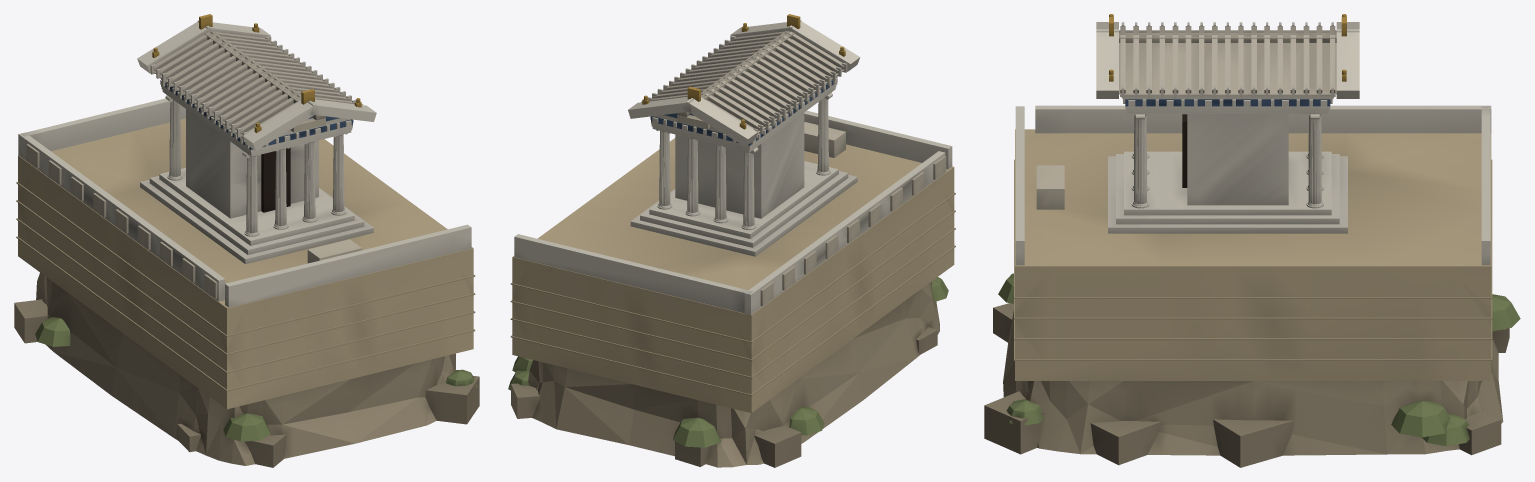
File: nike.glb
3 renders of one model, left to right at view 1: azimuth 30°, elevation 25°; view 2: azimuth 150°, elevation 25°; view 3: azimuth 270°, elevation 25°, orthographic. The views are drawn at different scales.
Parts seen in each view (by area): view 1: p0_bastion, p1_temple, p2_roof; view 2: p0_bastion, p1_temple, p2_roof; view 3: p0_bastion, p1_temple, p2_roof.
Boxes of the visible parts, left/top/right/bottom form: p0_bastion: left=14, top=118, right=479, bottom=467; p1_temple: left=18, top=95, right=471, bottom=307; p2_roof: left=137, top=14, right=376, bottom=263; p0_bastion: left=508, top=138, right=955, bottom=467; p1_temple: left=514, top=92, right=952, bottom=315; p2_roof: left=628, top=14, right=860, bottom=157; p0_bastion: left=984, top=129, right=1520, bottom=467; p1_temple: left=1015, top=105, right=1491, bottom=265; p2_roof: left=1036, top=14, right=1359, bottom=209.
Size of the model in its own units: 15.87 by 15.75 by 21.18.
